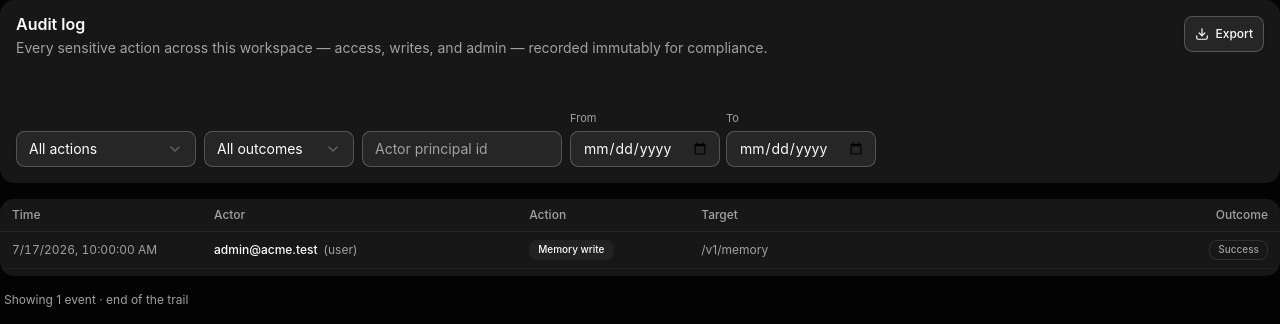
Test: AuditView › offers to clear filters only once some are set
expect the table is shown: met, box [0,198,1279,276]
expect the button "clear filters" is not shown: met
Type "someone" into the field named "Filter by actor".
click(462, 148); type("someone")  # box [362,130,562,166]
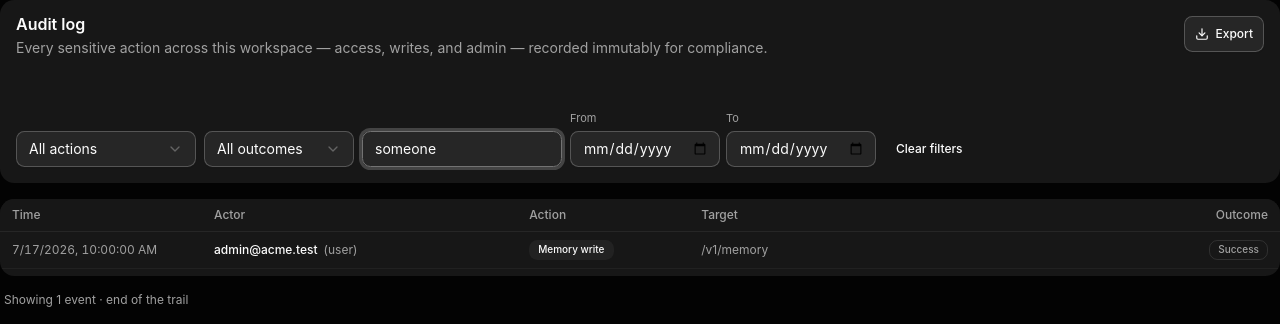
expect the button "Clear filters" is shown: met, box [884,130,975,166]
